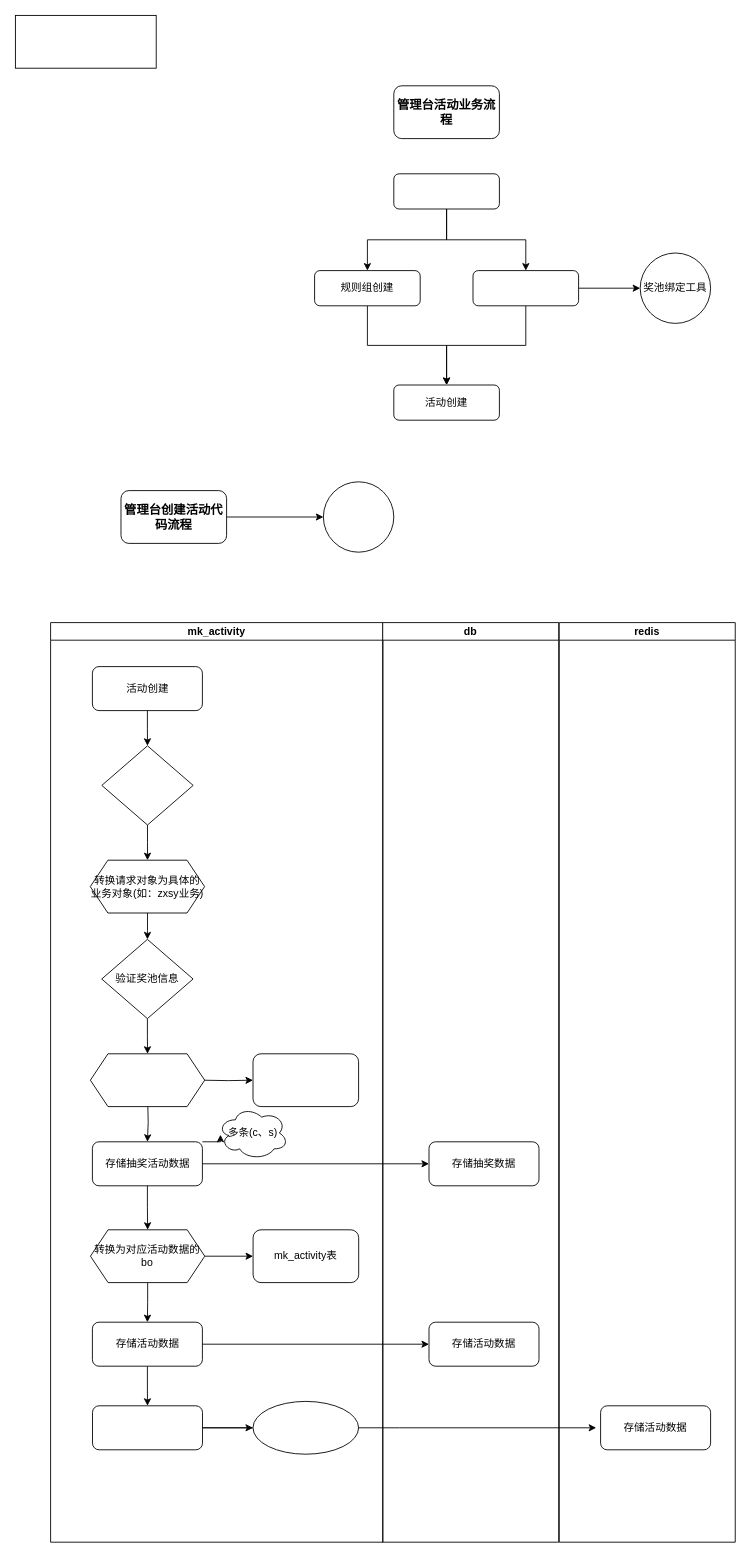
This 751x1558 diagram has some shape labels left out. The centre of each missing label's shape, as x and y in pixels:
"base_info表" goes at (x=305, y=1080).
"奖池创建" goes at (x=525, y=288).
"对应mk_activity的saveActivity方法" goes at (x=358, y=516).
"工具创建" goes at (x=446, y=191).
"循环添加缓存，数据是base_info的id作为数据" goes at (x=305, y=1427).
"添加区域活动缓存" goes at (x=147, y=1427).
"营销活动创建流程" goes at (x=85, y=41).
"转换为对应业务抽奖活动存储数据bo" goes at (x=147, y=1080).
"验证activityCodewe唯一性" goes at (x=147, y=785).
